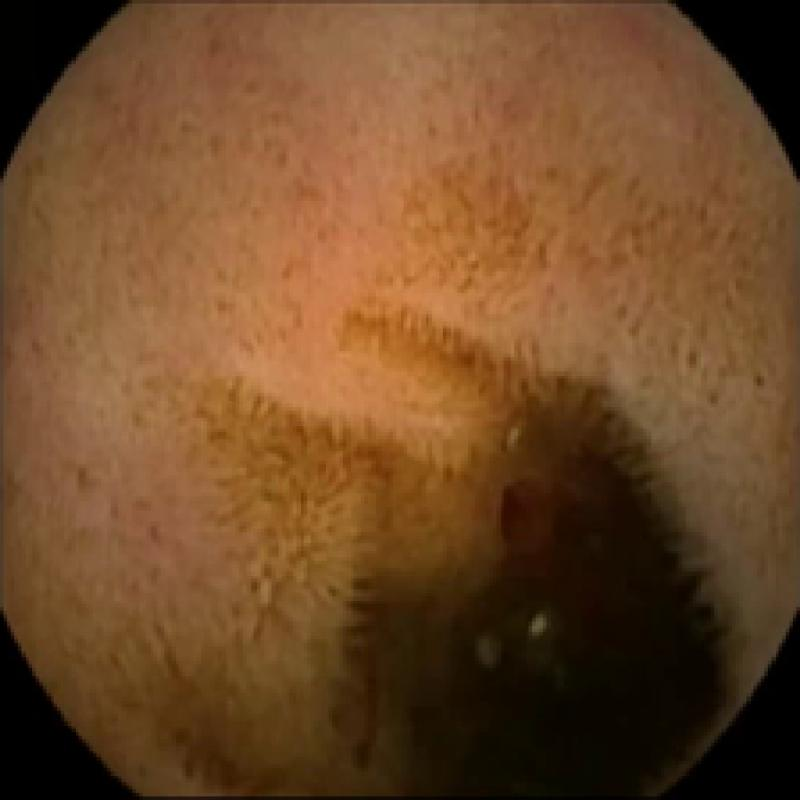bleeding: (493, 475, 578, 579)
